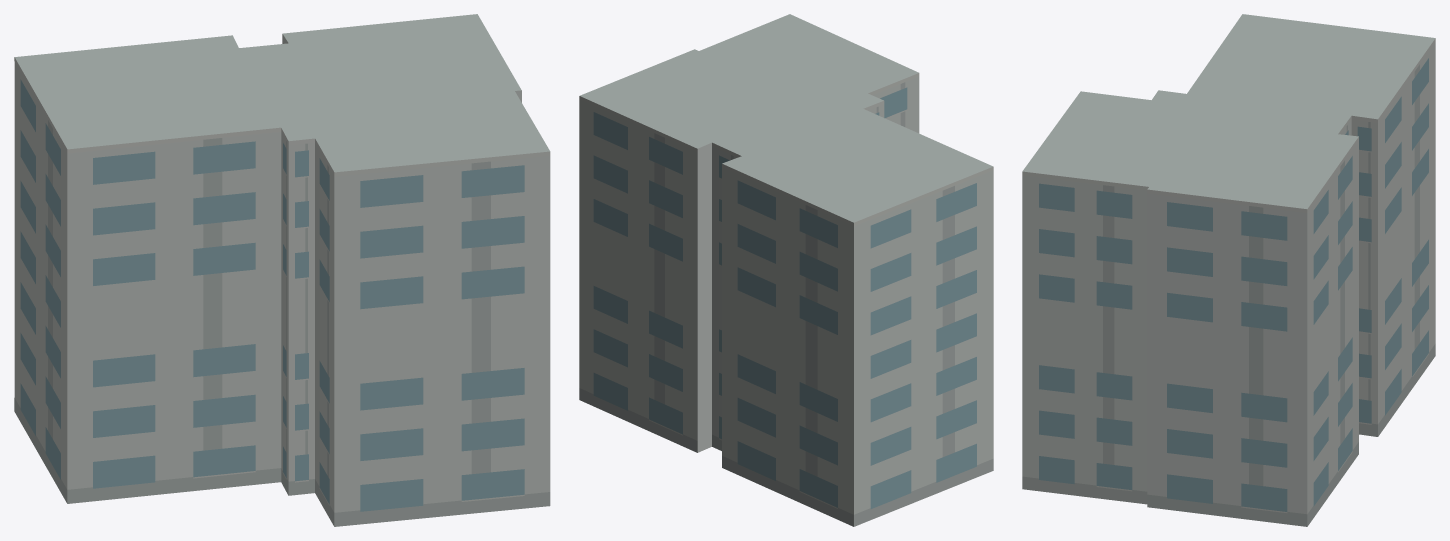
The model's file is survey-upis-32874466.glb.
The picture shows the model from 3 angles, left to right: view 1: azimuth 30°, elevation 25°; view 2: azimuth 150°, elevation 25°; view 3: azimuth 270°, elevation 25°; orthographic projection. The views are drawn at different scales.
Parts seen in each view (by area): view 1: survey-upis-32874466.tmp; view 2: survey-upis-32874466.tmp; view 3: survey-upis-32874466.tmp.
Part boxes in pixels (x1,y1,x2,y2): survey-upis-32874466.tmp: (14,14,550,526); survey-upis-32874466.tmp: (579,14,993,526); survey-upis-32874466.tmp: (1022,14,1435,526).
Size of the model in its own units: 26.76 by 20.3 by 23.95.
